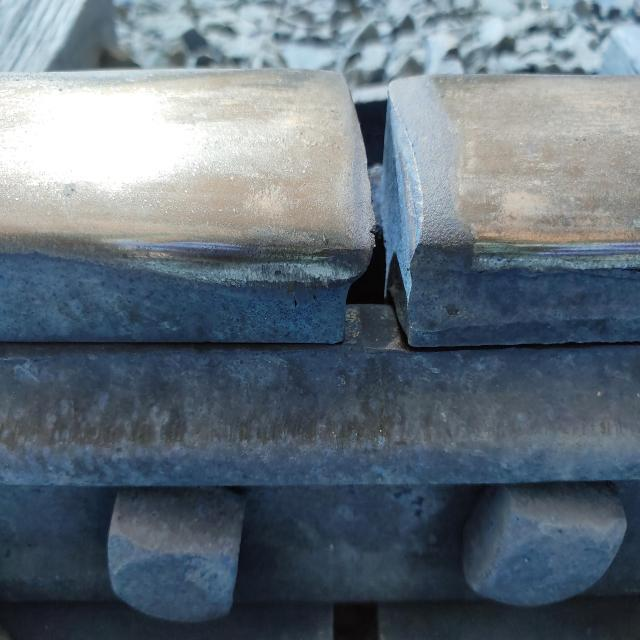railway_join_bar_defects_low: (329, 70, 430, 350)
